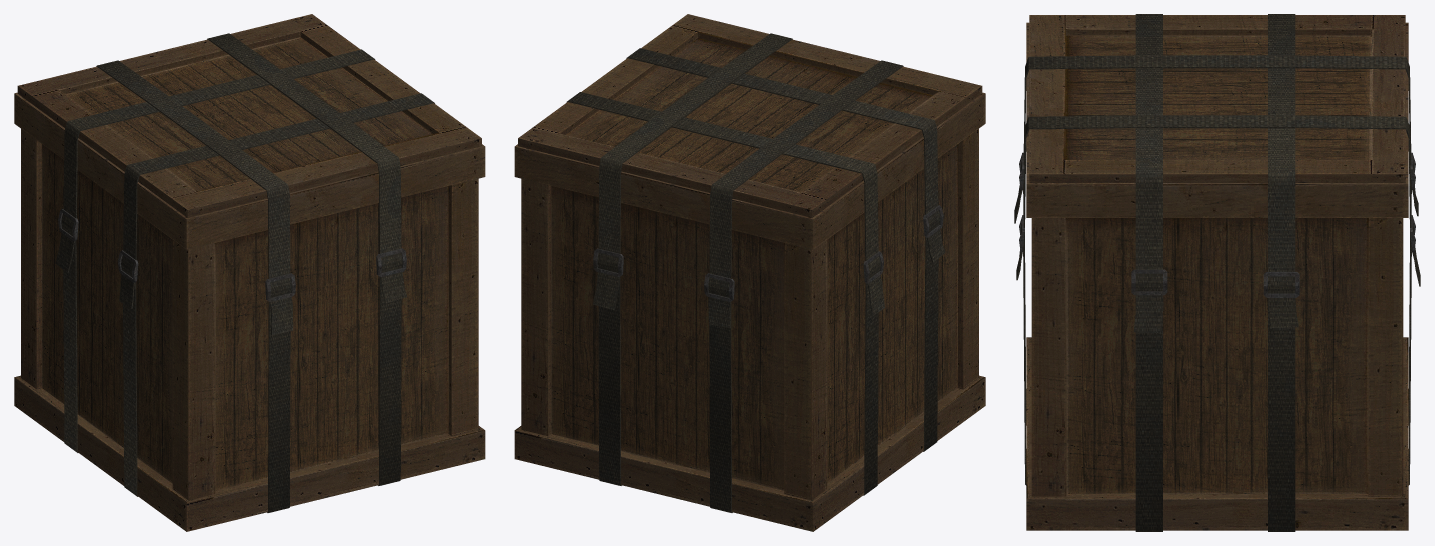
The model's file is wooden_crate_hx_5_2.glb.
3 renders of one model, left to right at view 1: azimuth 30°, elevation 25°; view 2: azimuth 150°, elevation 25°; view 3: azimuth 270°, elevation 25°, orthographic. The views are drawn at different scales.
Visible parts, largest first — view 1: wooden_crate_hx_5_2; view 2: wooden_crate_hx_5_2; view 3: wooden_crate_hx_5_2.
Part boxes in pixels (box(x1,y1,x2,y2)): wooden_crate_hx_5_2: box(14, 14, 485, 531); wooden_crate_hx_5_2: box(514, 14, 985, 531); wooden_crate_hx_5_2: box(1014, 14, 1420, 531).
Bounding box in the file's own units: 1.49 × 1.46 × 1.49.
Materials: 3 (3 with a texture image).
